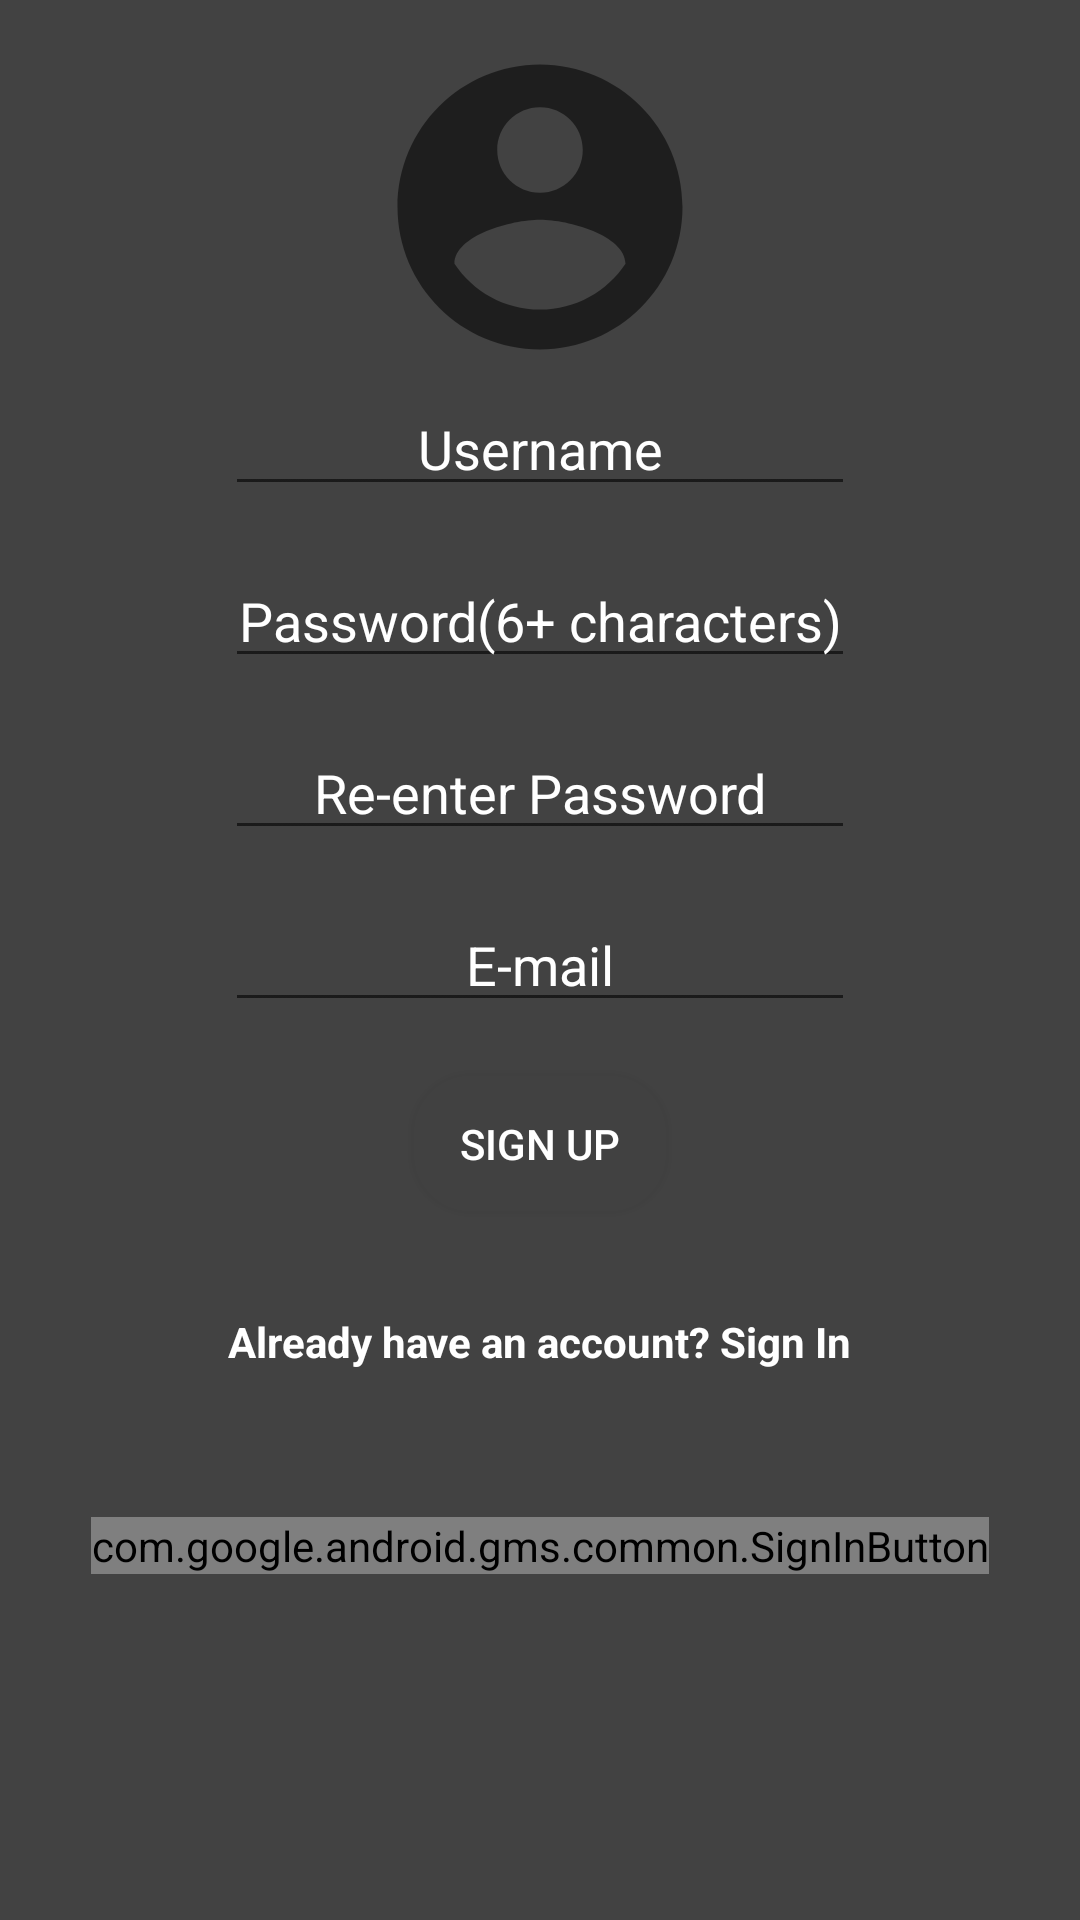

Point at icon controls on the screen. Image size 1080 x 1920, points as (x,y).
account circle: (540,207)
